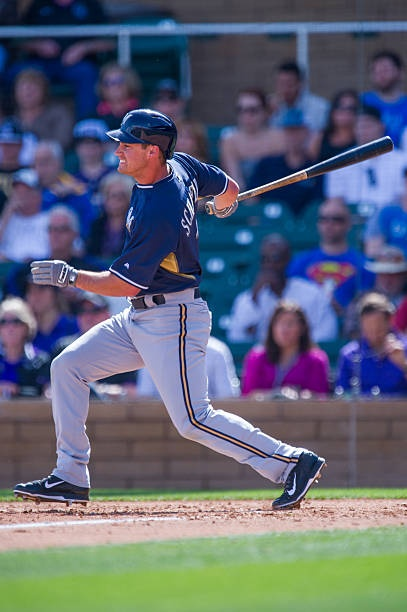bita: (213, 133, 389, 215)
